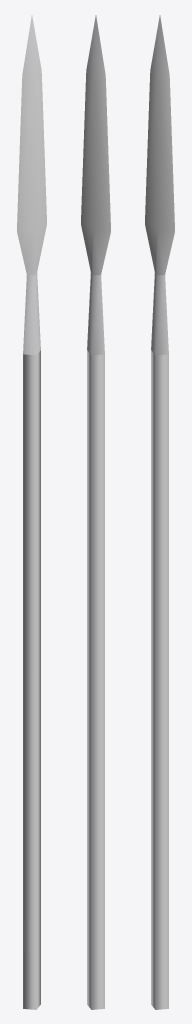
The model's file is spear.fbx.
3 views of the same model, side by side, from view 1: azimuth 30°, elevation 25°; view 2: azimuth 150°, elevation 25°; view 3: azimuth 330°, elevation 25° (orthographic).
Parts seen in each view (by area): view 1: spear; view 2: spear; view 3: spear.
Part boxes in pixels (bbox=[...]): spear: bbox=[17, 15, 46, 1009]; spear: bbox=[81, 15, 110, 1009]; spear: bbox=[145, 15, 174, 1009].
Size of the model in its own units: 8.52 by 267 by 4.38.
